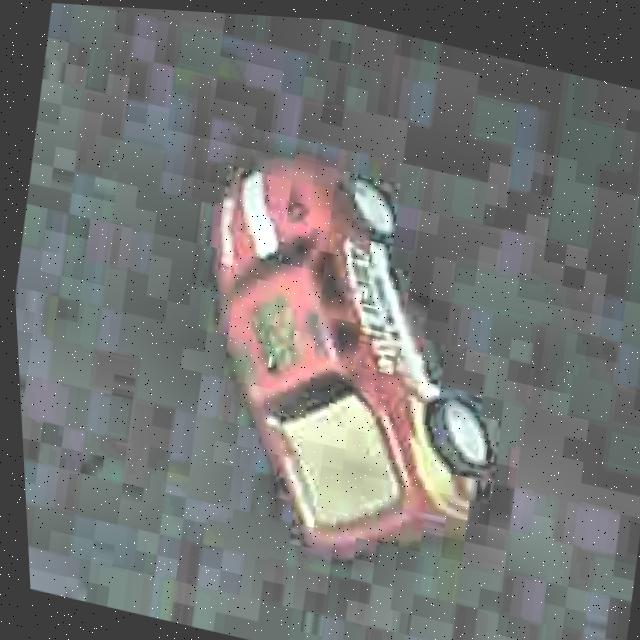car: (154, 130, 547, 591)
